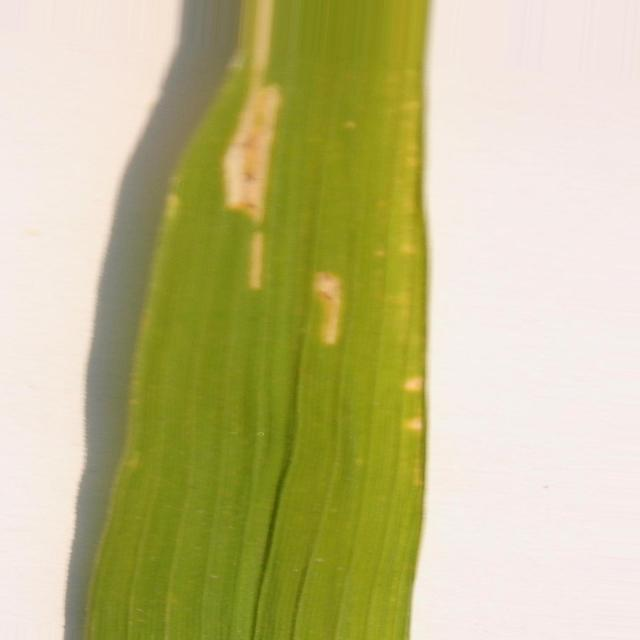Bacterial_Leaf_Blight: (222, 0, 282, 289), (314, 271, 341, 345), (404, 416, 424, 432), (404, 376, 424, 392)
